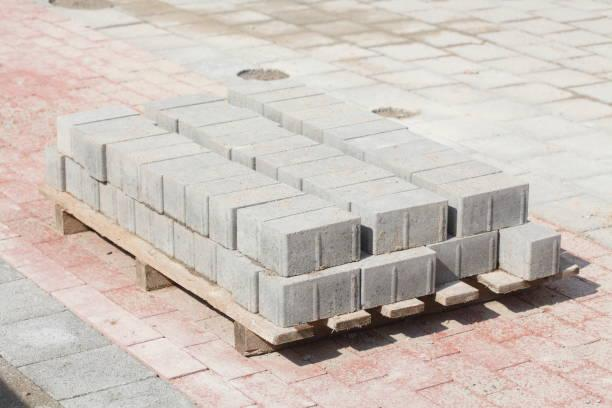Bricks: (253, 262, 362, 329), (259, 206, 360, 274), (236, 192, 333, 262), (351, 188, 449, 254), (207, 182, 304, 248), (185, 171, 278, 239), (140, 150, 231, 215), (441, 171, 529, 236), (163, 161, 250, 224), (121, 139, 204, 200), (359, 244, 433, 310), (105, 131, 186, 190), (68, 114, 155, 167), (83, 124, 162, 182), (58, 103, 142, 152), (257, 140, 347, 180), (232, 132, 318, 173), (433, 233, 499, 286), (499, 223, 559, 281), (277, 152, 369, 188), (204, 124, 290, 161), (321, 177, 417, 209), (174, 109, 262, 142), (261, 89, 341, 125), (321, 114, 399, 150), (160, 99, 240, 133), (232, 81, 318, 112), (304, 163, 392, 193), (189, 116, 279, 145), (338, 128, 422, 157), (301, 105, 373, 137), (363, 139, 447, 166), (414, 158, 497, 184), (142, 91, 225, 117), (284, 101, 353, 130), (386, 150, 465, 174), (233, 253, 257, 311), (148, 210, 175, 256), (194, 234, 216, 282), (174, 224, 196, 268), (216, 245, 235, 289), (134, 201, 154, 241), (100, 185, 123, 219), (119, 193, 139, 231), (46, 152, 66, 190), (80, 173, 96, 208), (67, 163, 81, 199)
